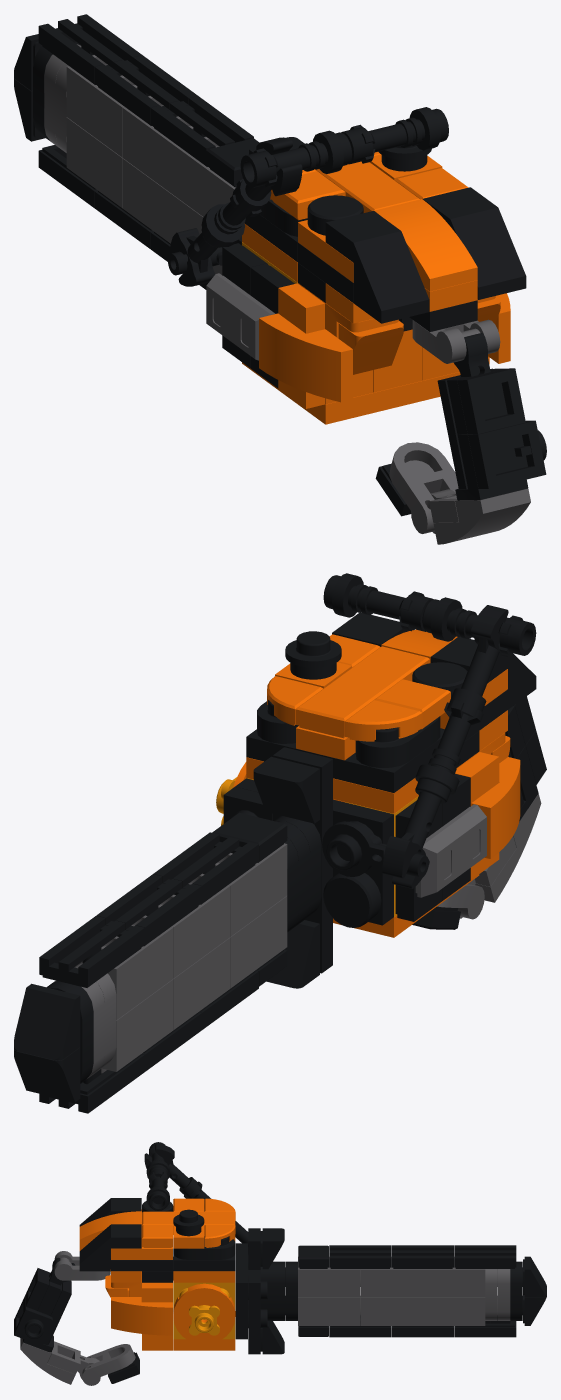
The model's file is Chainsaw.dae.
3 renders of one model, top to bottom at view 1: azimuth 30°, elevation 25°; view 2: azimuth 150°, elevation 25°; view 3: azimuth 270°, elevation 25°, orthographic. The views are drawn at different scales.
Parts seen in each view (by area): view 1: Part.38, Part.52, Part.39, Part.40, Part.6, Part.9, Part.86, Part.85, Part.84, Part.4, Part.65, Part.55 (+47 smaller); view 2: Part.41, Part.86, Part.90, Part.55, Part.85, Part.84, Part.63, Part.71, Part.75, Part.66, Part.74, Part.73 (+49 smaller); view 3: Part.56, Part.51, Part.39, Part.73, Part.74, Part.75, Part.78, Part.76, Part.77, Part.84, Part.86, Part.85 (+52 smaller).
Boxes of the visible parts, x1,y1,x2,y2 form: Part.38: [325, 211, 429, 323]; Part.52: [259, 313, 352, 402]; Part.39: [422, 187, 526, 299]; Part.40: [374, 199, 477, 291]; Part.6: [468, 420, 546, 488]; Part.9: [389, 442, 458, 533]; Part.86: [38, 14, 141, 84]; Part.85: [94, 55, 197, 125]; Part.84: [150, 96, 253, 166]; Part.4: [457, 368, 525, 434]; Part.65: [240, 130, 352, 187]; Part.55: [206, 273, 275, 360]; Part.41: [296, 646, 429, 738]; Part.86: [39, 916, 144, 987]; Part.90: [14, 983, 80, 1060]; Part.55: [415, 804, 486, 897]; Part.85: [96, 874, 201, 946]; Part.84: [153, 832, 258, 904]; Part.63: [415, 688, 486, 803]; Part.71: [253, 756, 319, 823]; Part.75: [76, 915, 173, 1020]; Part.66: [323, 573, 433, 631]; Part.74: [158, 873, 230, 978]; Part.73: [215, 843, 287, 936]; Part.56: [173, 1283, 235, 1344]; Part.51: [111, 1297, 172, 1335]; Part.39: [79, 1224, 141, 1271]; Part.73: [298, 1257, 360, 1297]; Part.74: [360, 1257, 422, 1297]; Part.75: [423, 1257, 485, 1297]; Part.78: [298, 1296, 360, 1325]; Part.76: [423, 1297, 485, 1325]; Part.77: [360, 1297, 422, 1325]; Part.84: [329, 1245, 391, 1268]; Part.86: [454, 1245, 516, 1268]; Part.85: [392, 1245, 453, 1268].
Bounding box in the file's own units: 42.4 × 58.52 × 137.
